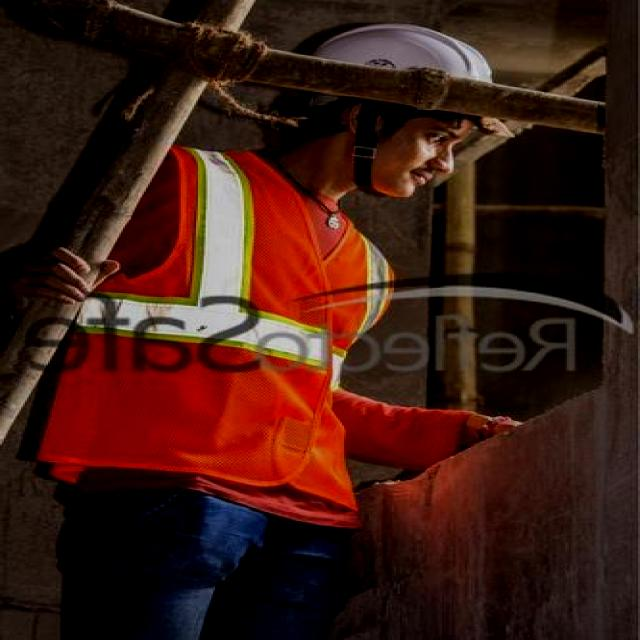vest: (37, 158, 408, 491)
